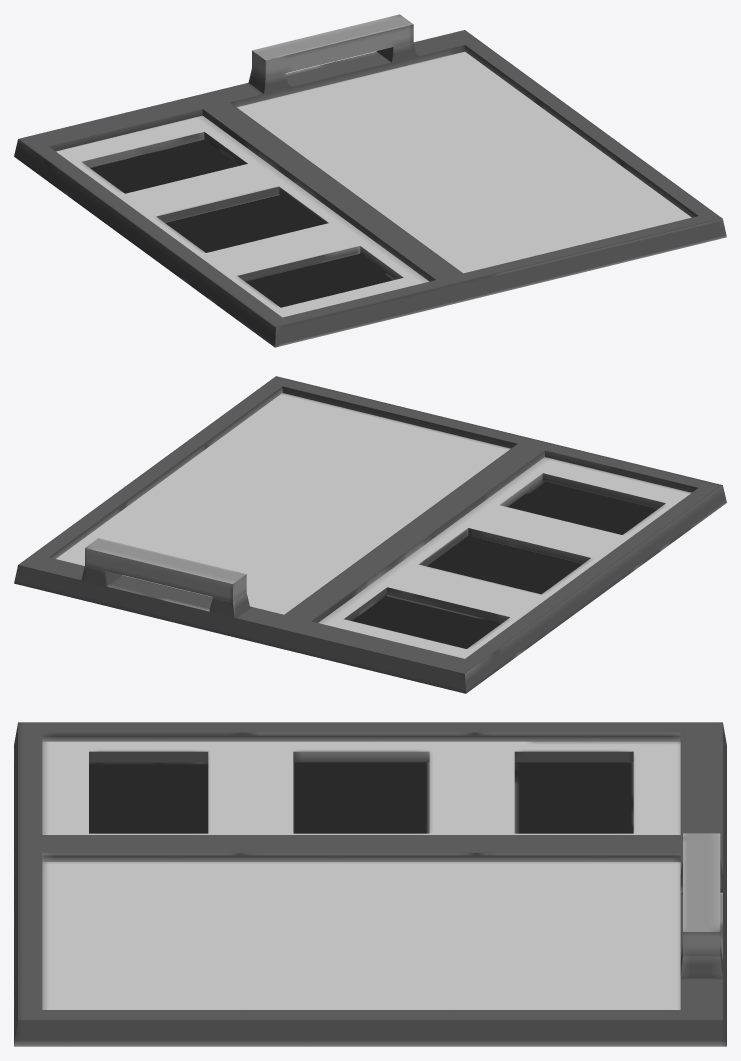
Rendered from Panel_B.fbx.
3 views of the same model, one above another, from view 1: azimuth 30°, elevation 25°; view 2: azimuth 150°, elevation 25°; view 3: azimuth 270°, elevation 25° (orthographic). The views are drawn at different scales.
Parts seen in each view (by area): view 1: Panel_B; view 2: Panel_B; view 3: Panel_B.
Boxes of the visible parts, left/top/right/bottom form: Panel_B: left=14, top=14, right=726, bottom=347; Panel_B: left=14, top=376, right=726, bottom=693; Panel_B: left=14, top=722, right=726, bottom=1046.
Bounding box in the file's own units: 200 × 21.33 × 200.
